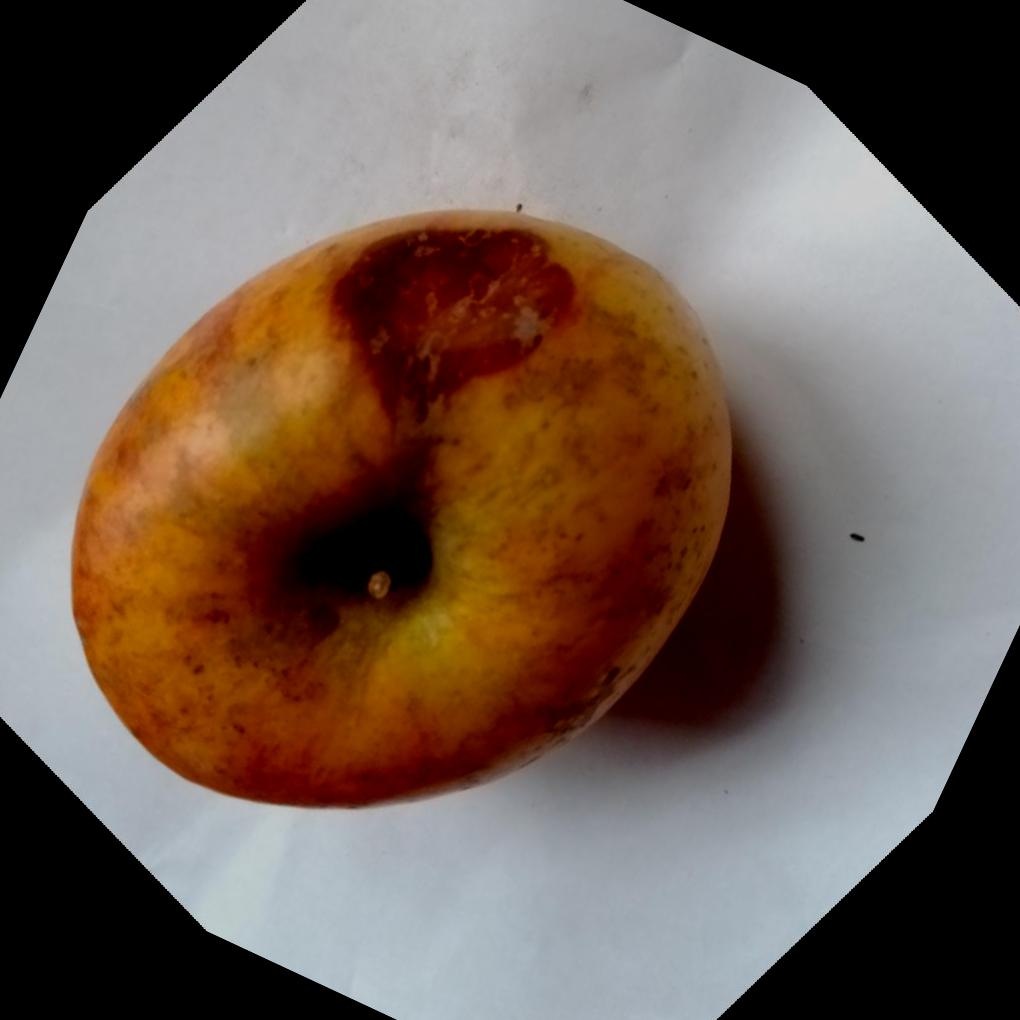FreshOrange: (64, 208, 733, 813)
